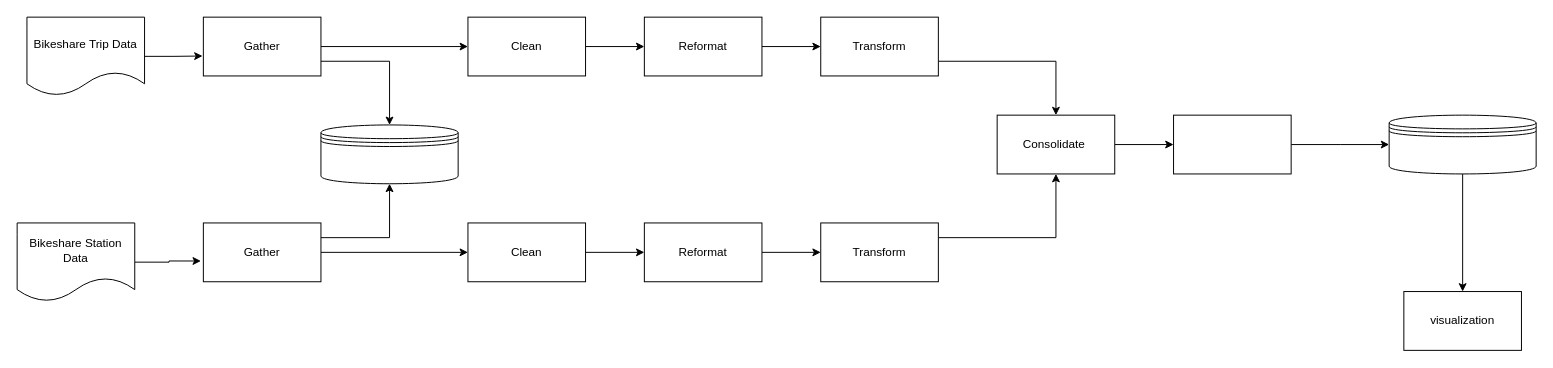
The diagram is 1553 pixels wide and 368 high, and some of its shapes have lost their labels. Each missing label, with the centre of its shape:
"Data Warehouse" goes at [1462,144].
"Load" goes at [1232,144].
"Temp Storage" goes at [389,154].
